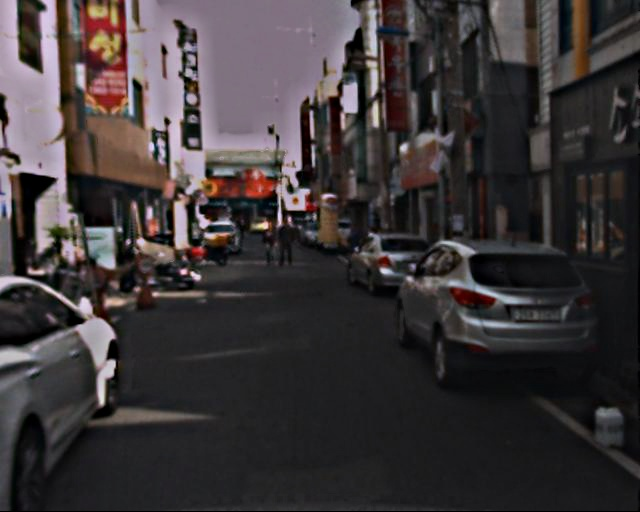person: (344, 214, 366, 274), (277, 214, 299, 271), (262, 218, 282, 268)
